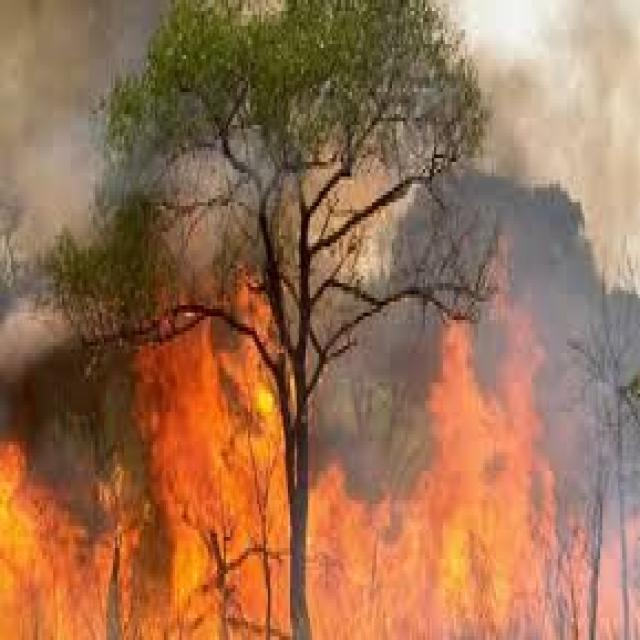Fire: (308, 472, 640, 640), (146, 328, 290, 640), (2, 456, 133, 640), (437, 322, 532, 466)
Smoke: (478, 7, 640, 298), (2, 1, 108, 225)
